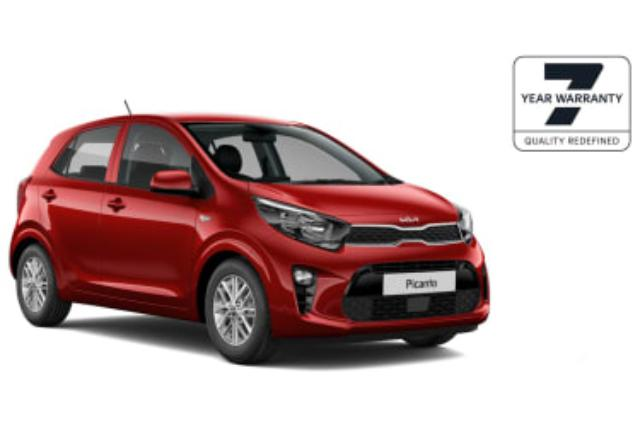kia: (9, 101, 491, 366)
